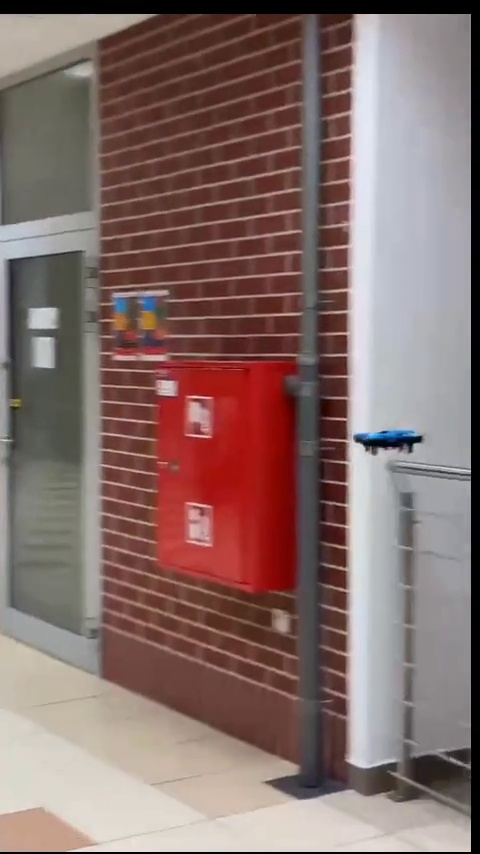drone: (349, 428, 417, 457)
